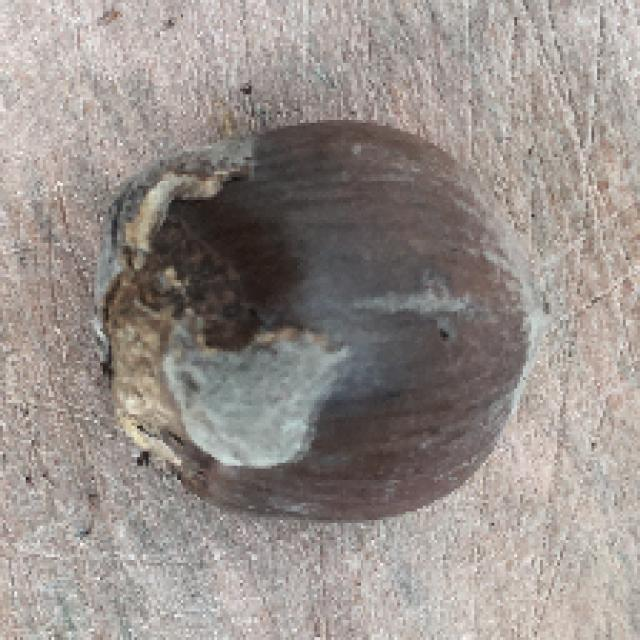damagedHazelnut: (93, 107, 545, 526)
